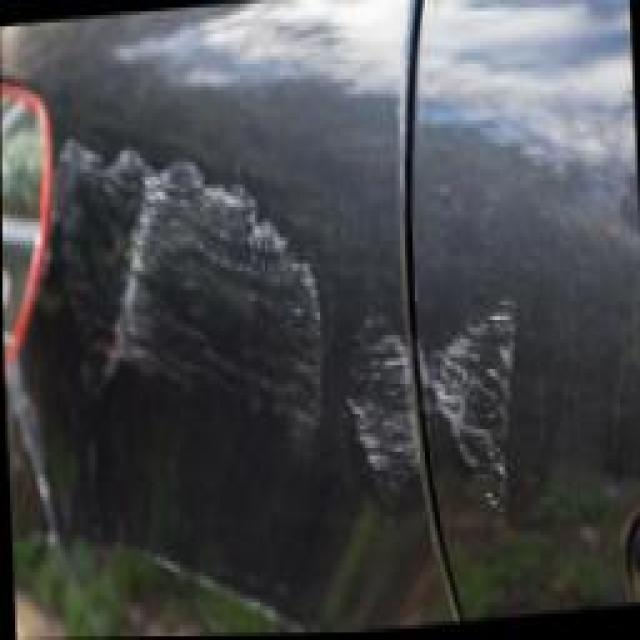Door: (410, 275, 545, 544)
Fender: (30, 90, 424, 572)
